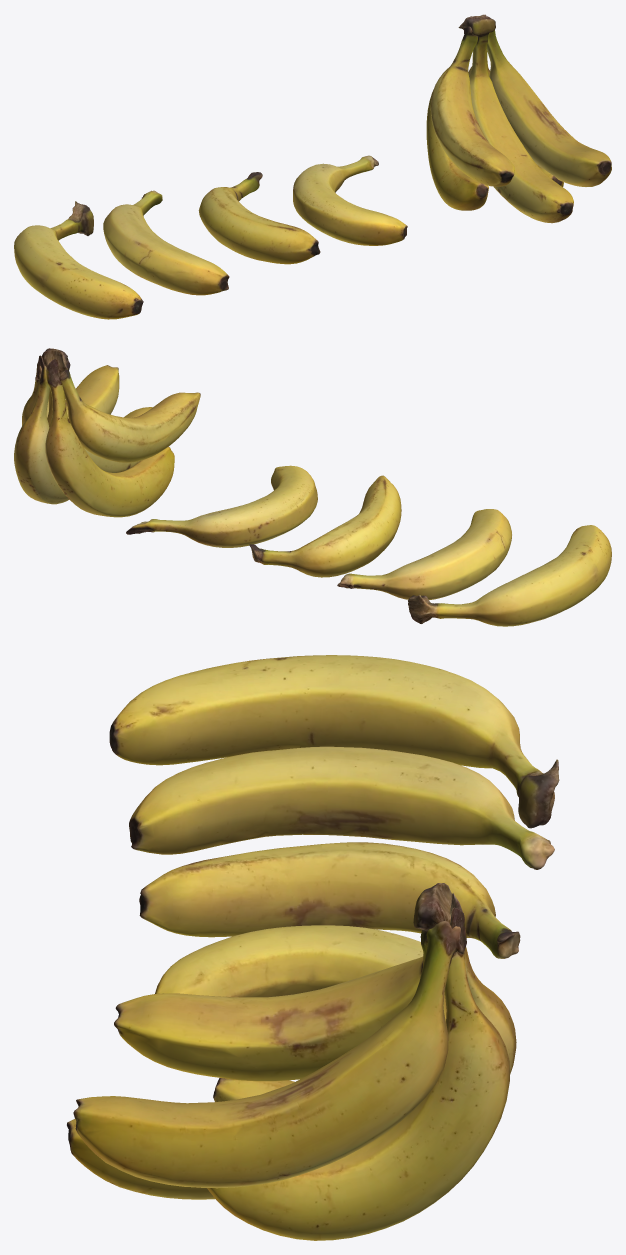
File: bananas.glb
3 renders of one model, top to bottom at view 1: azimuth 30°, elevation 25°; view 2: azimuth 150°, elevation 25°; view 3: azimuth 270°, elevation 25°, orthographic. The views are drawn at different scales.
Visible parts, largest first — view 1: bananas_bunch; view 2: bananas_bunch; view 3: bananas_bunch.
Part boxes in pixels (<box>): bananas_bunch: <box>14,14,611,319</box>; bananas_bunch: <box>14,348,611,626</box>; bananas_bunch: <box>67,655,559,1240</box>.
Bounding box in the file's own units: 0.6 × 0.1788 × 0.2441.
1 material, 1 textured.
